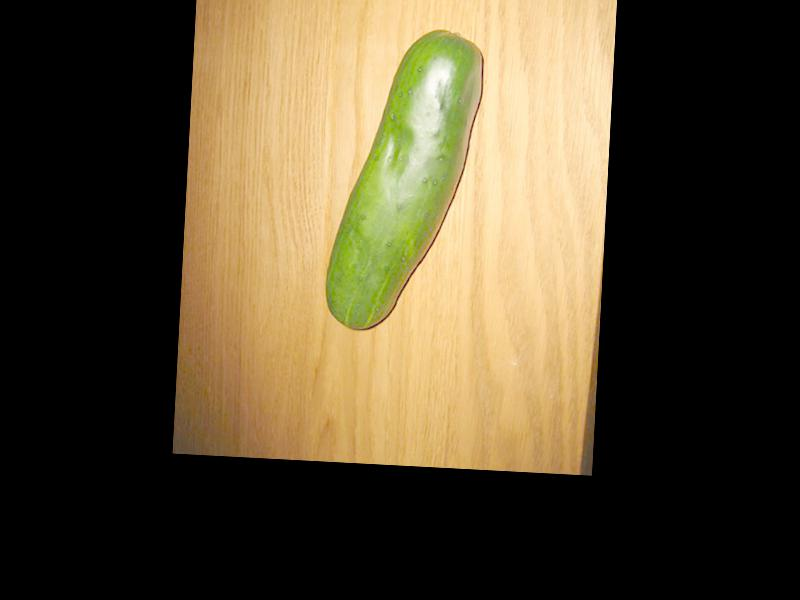Cucumber: (325, 28, 485, 337)
